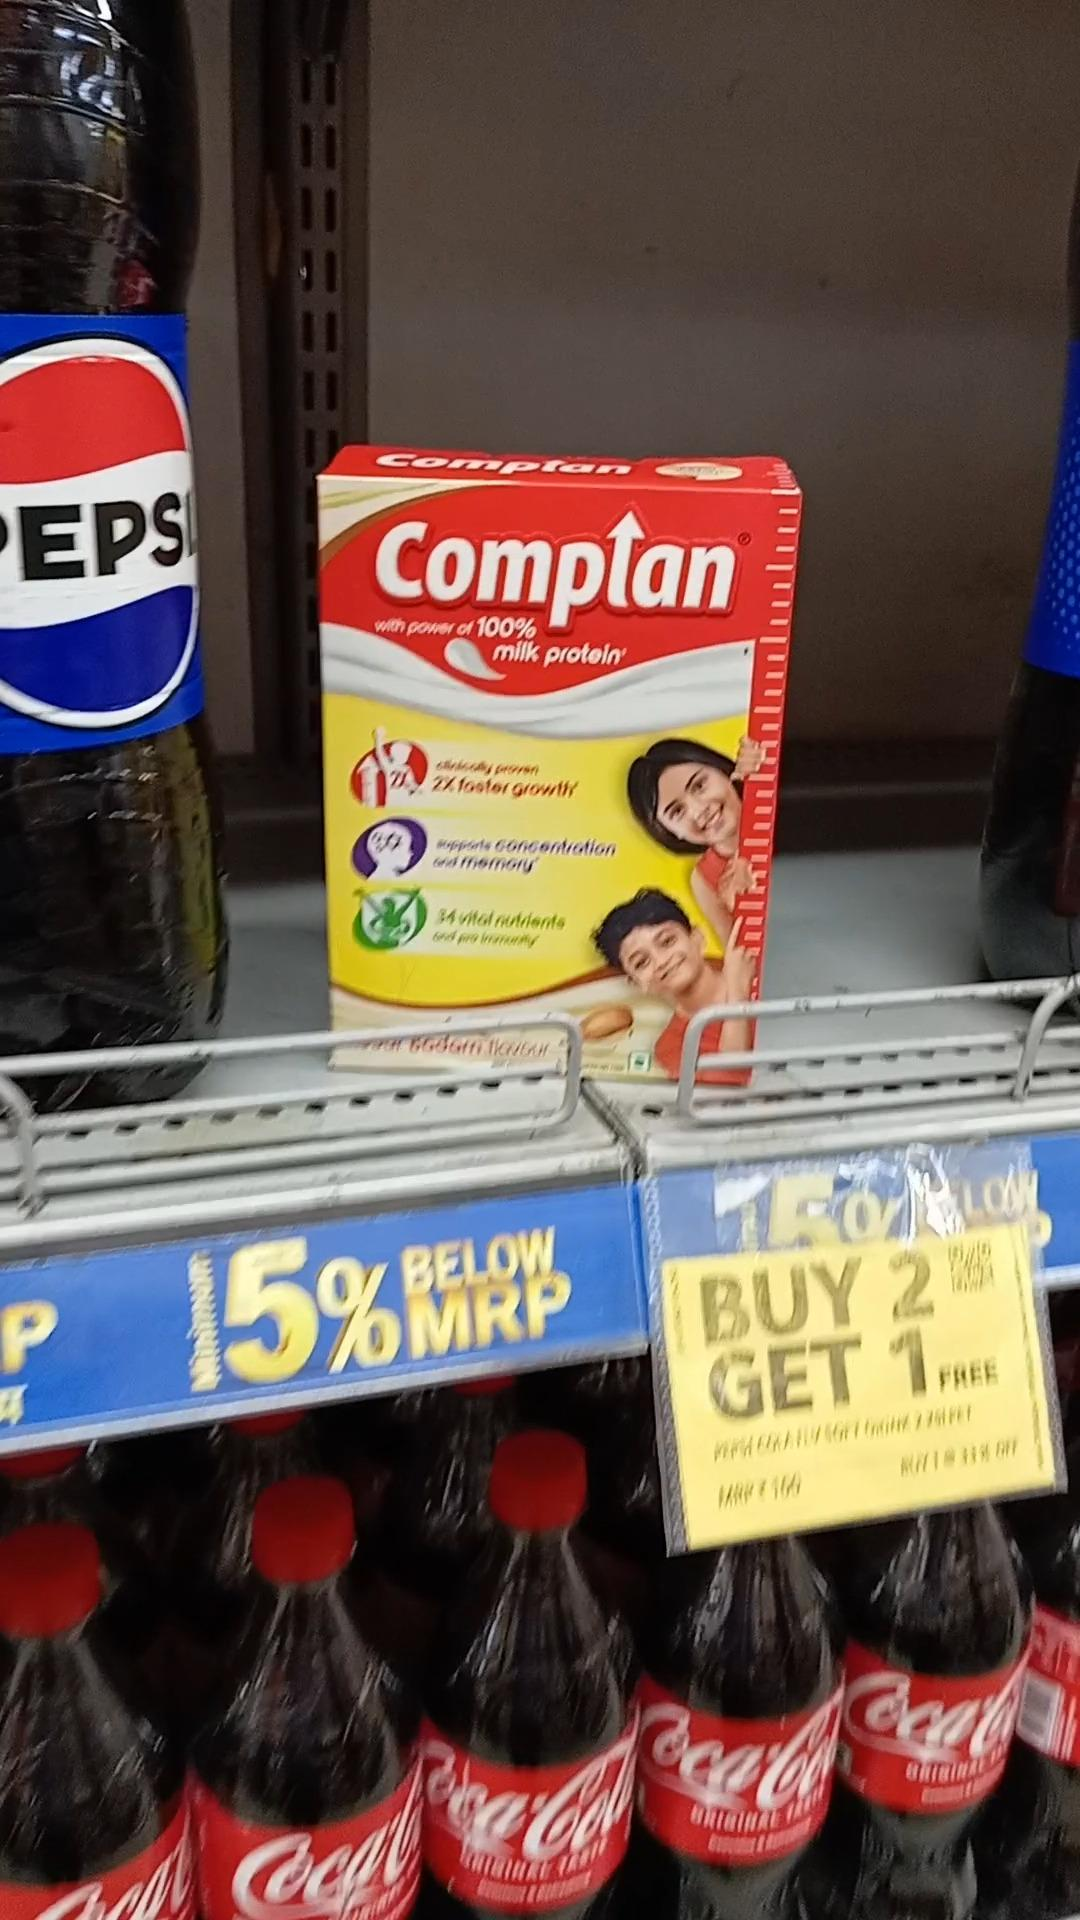COMPLAN_CHOCOLATE_200_GMS_JAR: (320, 477, 750, 1084)
